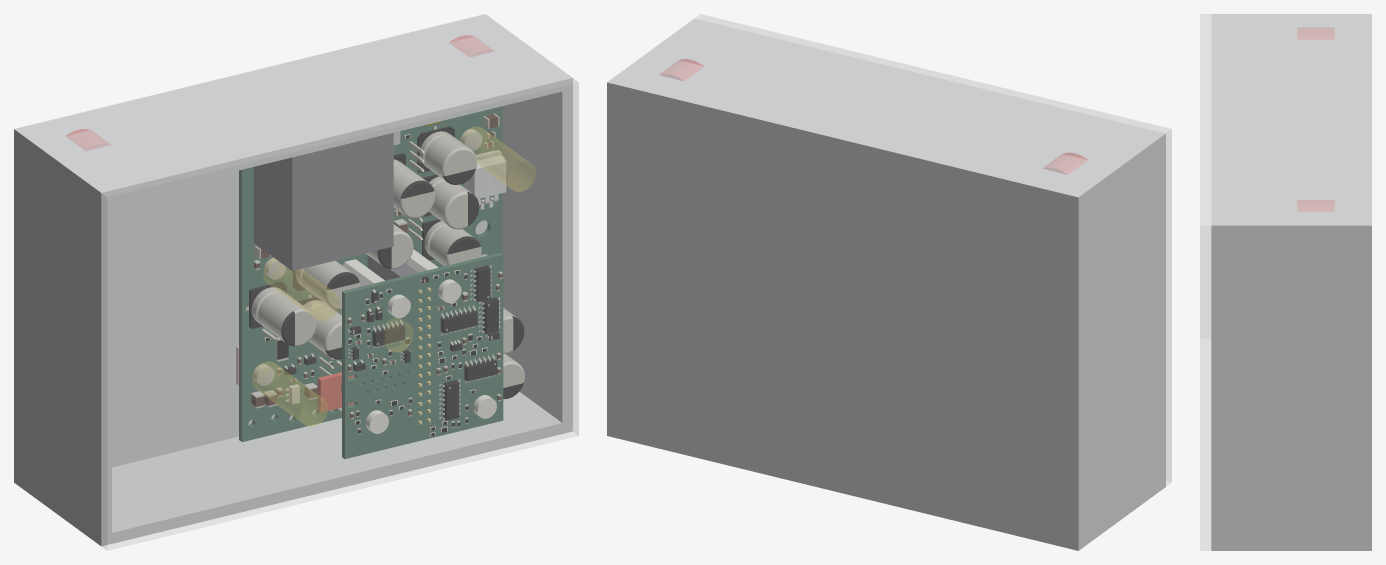
File: BOOST_assembly_2026-10-13.glb
3 renders of one model, left to right at view 1: azimuth 30°, elevation 25°; view 2: azimuth 150°, elevation 25°; view 3: azimuth 270°, elevation 25°, orthographic. The views are drawn at different scales.
Visible parts, largest first — view 1: lid (underside at 33.0), case floor (10 mm), case wall north, case wall west, case wall south, case wall east, =>[0:1:1:15], L1 CSCF3218-6R8MC body 22.5 x 32.0 x 19.0, =>[0:1:1:22], C71, M10 screwdriver access (4.0 mm radius, head to lid), C69 (+16 smaller); view 2: case floor (10 mm), case wall north, case wall west, lid (underside at 33.0), case wall east; view 3: case wall east, case wall north, case floor (10 mm), lid (underside at 33.0), case wall west, penetrator keep-out box (9.5, 3.5), 15 x 10, penetrator keep-out box (118.5, 3.5), 15 x 10.
Boxes of the visible parts, left/top/right/bottom form: lid (underside at 33.0): left=101, top=78, right=578, bottom=550; case floor (10 mm): left=14, top=14, right=505, bottom=496; case wall north: left=45, top=31, right=562, bottom=201; case wall west: left=34, top=141, right=111, bottom=546; case wall south: left=112, top=392, right=562, bottom=543; case wall east: left=495, top=29, right=572, bottom=433; =>[0:1:1:15]: left=342, top=253, right=503, bottom=458; L1 CSCF3218-6R8MC body 22.5 x 32.0 x 19.0: left=253, top=133, right=393, bottom=270; =>[0:1:1:22]: left=239, top=106, right=502, bottom=441; C71: left=245, top=282, right=316, bottom=346; M10 screwdriver access (4.0 mm radius, head to lid): left=252, top=361, right=327, bottom=426; C69: left=417, top=126, right=476, bottom=184; case floor (10 mm): left=607, top=67, right=1098, bottom=550; case wall north: left=638, top=21, right=1154, bottom=179; case wall west: left=1089, top=131, right=1165, bottom=535; lid (underside at 33.0): left=695, top=14, right=1171, bottom=486; case wall east: left=627, top=18, right=704, bottom=69; case wall east: left=1211, top=221, right=1334, bottom=550; case wall north: left=1211, top=18, right=1334, bottom=220; case floor (10 mm): left=1334, top=14, right=1371, bottom=550; lid (underside at 33.0): left=1200, top=14, right=1210, bottom=550; case wall west: left=1211, top=14, right=1334, bottom=18; penetrator keep-out box (9.5, 3.5), 15 x 10: left=1297, top=28, right=1334, bottom=39; penetrator keep-out box (118.5, 3.5), 15 x 10: left=1297, top=200, right=1334, bottom=211.
Size of the model in its own units: 0.134 by 0.097 by 0.046.
